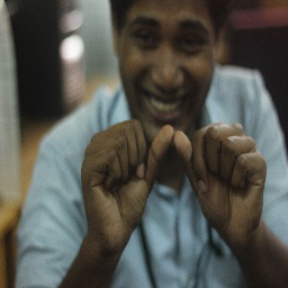A: (104, 115, 240, 219)
